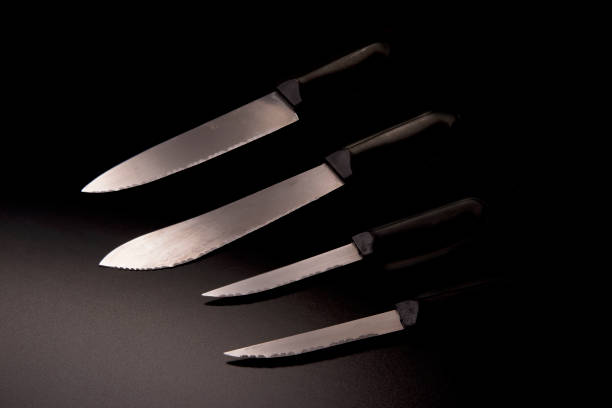knife: (96, 108, 459, 272), (77, 38, 394, 195), (199, 194, 485, 300), (221, 278, 491, 362)
